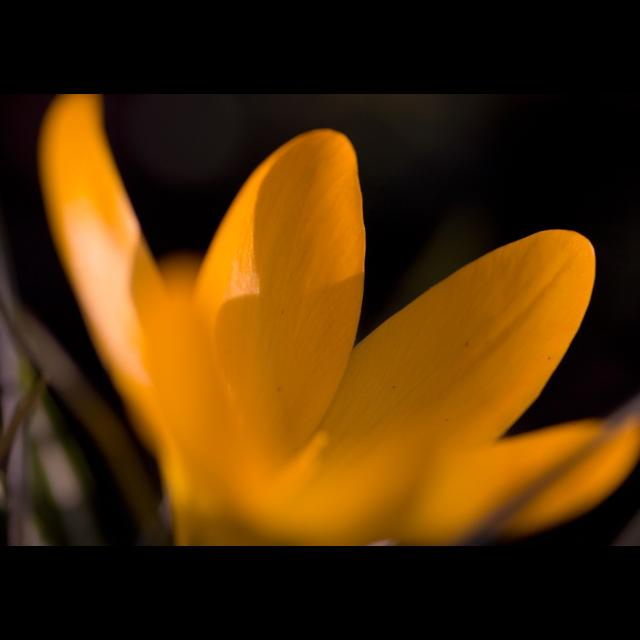Flower: (0, 121, 626, 525)
